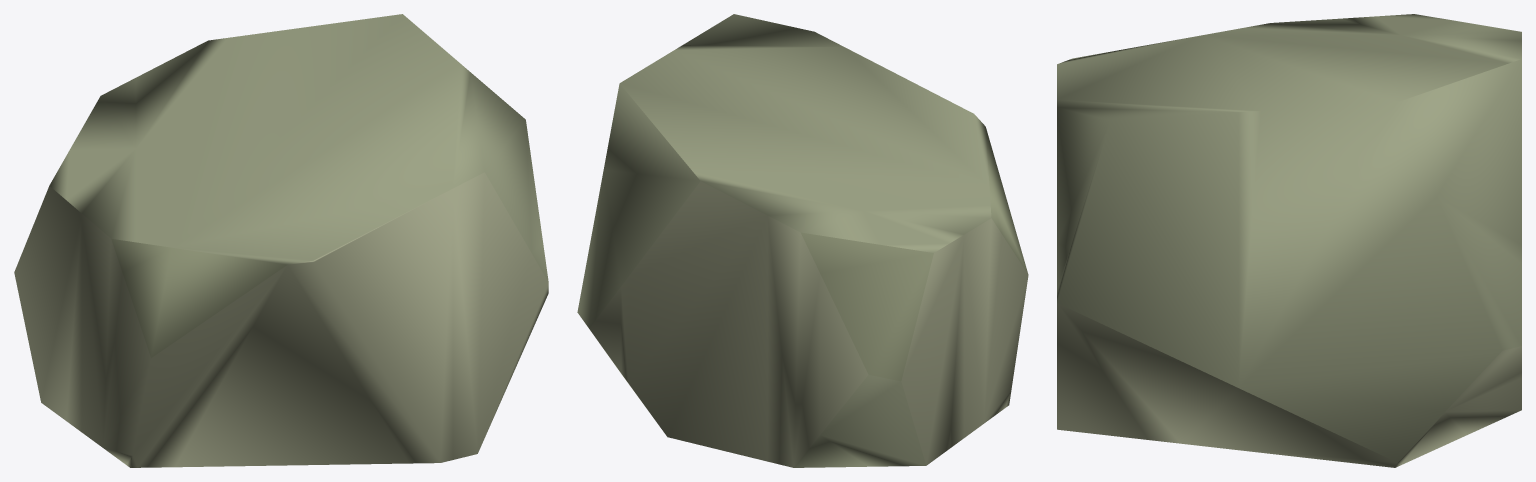
Rendered from lrock1.glb.
3 renders of one model, left to right at view 1: azimuth 30°, elevation 25°; view 2: azimuth 150°, elevation 25°; view 3: azimuth 270°, elevation 25°, orthographic. The views are drawn at different scales.
Parts seen in each view (by area): view 1: lrock1; view 2: lrock1; view 3: lrock1.
Part boxes in pixels (x1=…): lrock1: x1=14, y1=14, x2=548, y2=467; lrock1: x1=577, y1=14, x2=1028, y2=467; lrock1: x1=1057, y1=14, x2=1521, y2=467.
Size of the model in its own units: 4 by 3.49 by 4.
